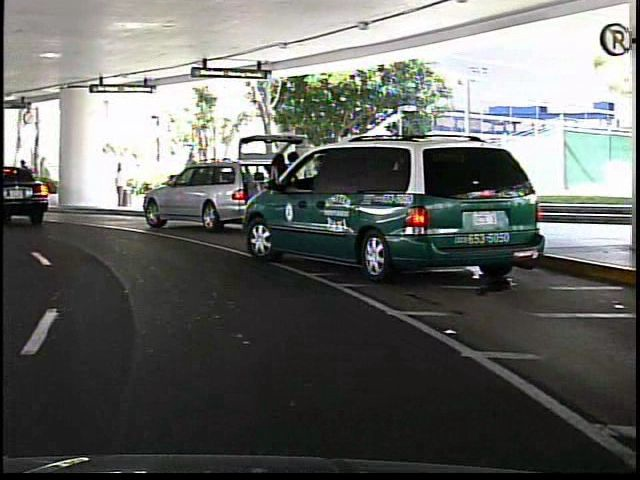person: (250, 149, 285, 227)
